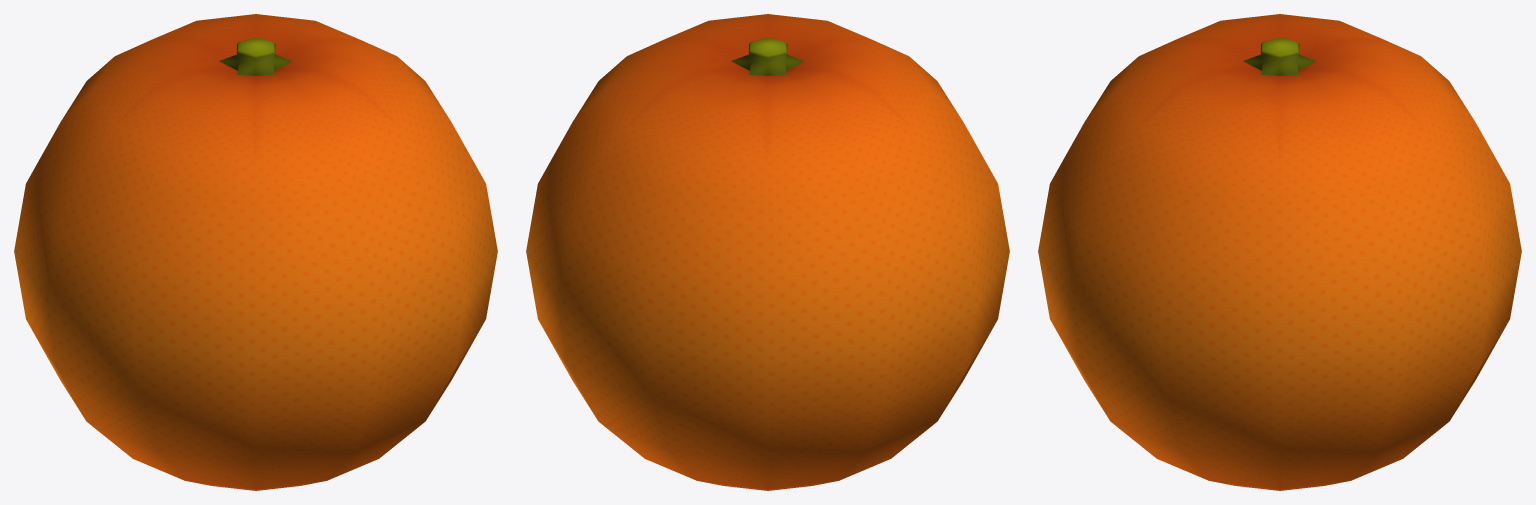
The model's file is Orange.fbx.
3 renders of one model, left to right at view 1: azimuth 30°, elevation 25°; view 2: azimuth 150°, elevation 25°; view 3: azimuth 270°, elevation 25°, orthographic.
Visible parts, largest first — view 1: Orange_Whole; view 2: Orange_Whole; view 3: Orange_Whole.
Boxes of the visible parts, bbox=[...] form: Orange_Whole: bbox=[14, 14, 497, 490]; Orange_Whole: bbox=[526, 14, 1009, 490]; Orange_Whole: bbox=[1038, 14, 1521, 490].
Bounding box in the file's own units: 1.81 × 1.73 × 1.81.
